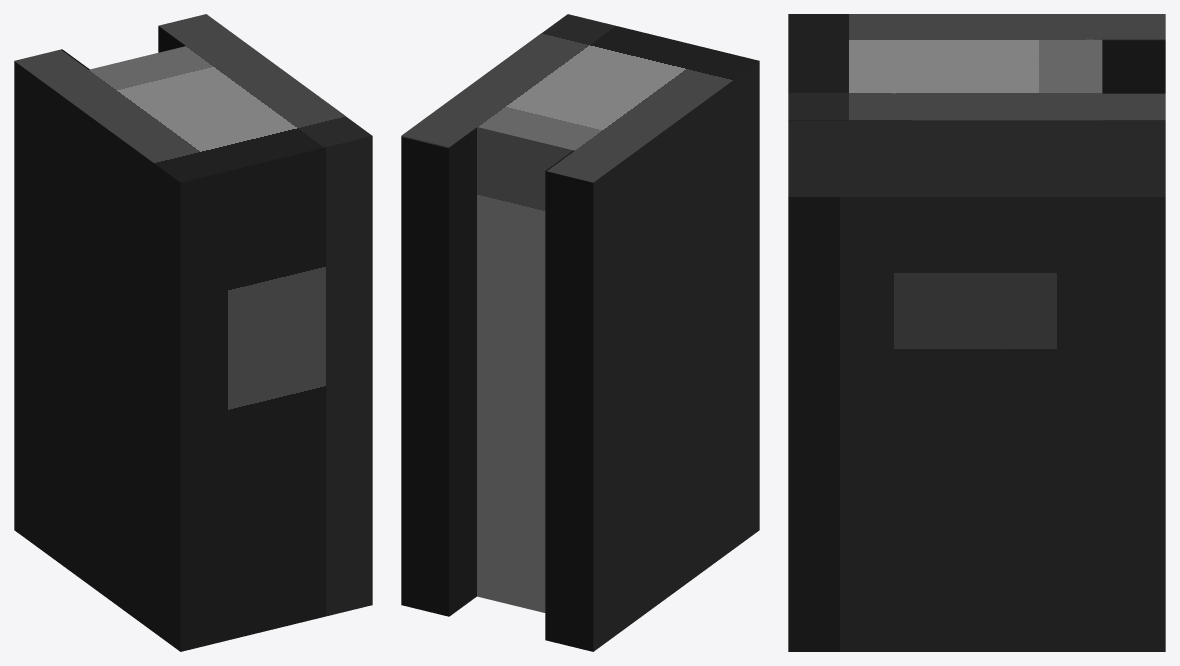
Rendered from book_642x05.obj.
The picture shows the model from 3 angles, left to right: view 1: azimuth 30°, elevation 25°; view 2: azimuth 150°, elevation 25°; view 3: azimuth 270°, elevation 25°; orthographic projection. The views are drawn at different scales.
Visible parts, largest first — view 1: Cube.001; view 2: Cube.001; view 3: Cube.001.
Boxes of the visible parts, bbox=[...] form: Cube.001: bbox=[14, 14, 372, 651]; Cube.001: bbox=[401, 14, 759, 651]; Cube.001: bbox=[788, 14, 1165, 651].
Bounding box in the file's own units: 0.5 × 1.17 × 0.75.
